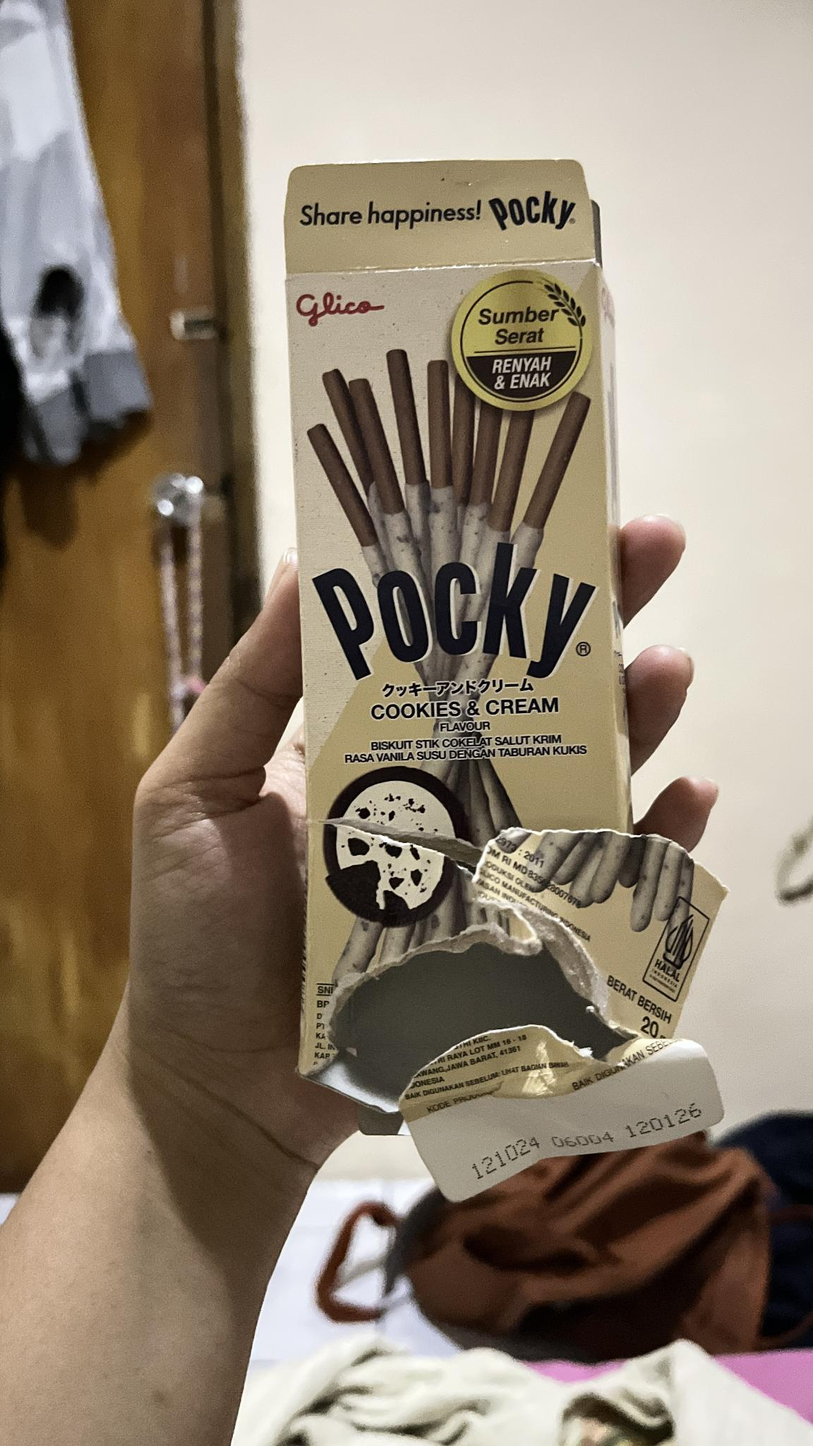Kertas: (287, 269, 634, 1076)
